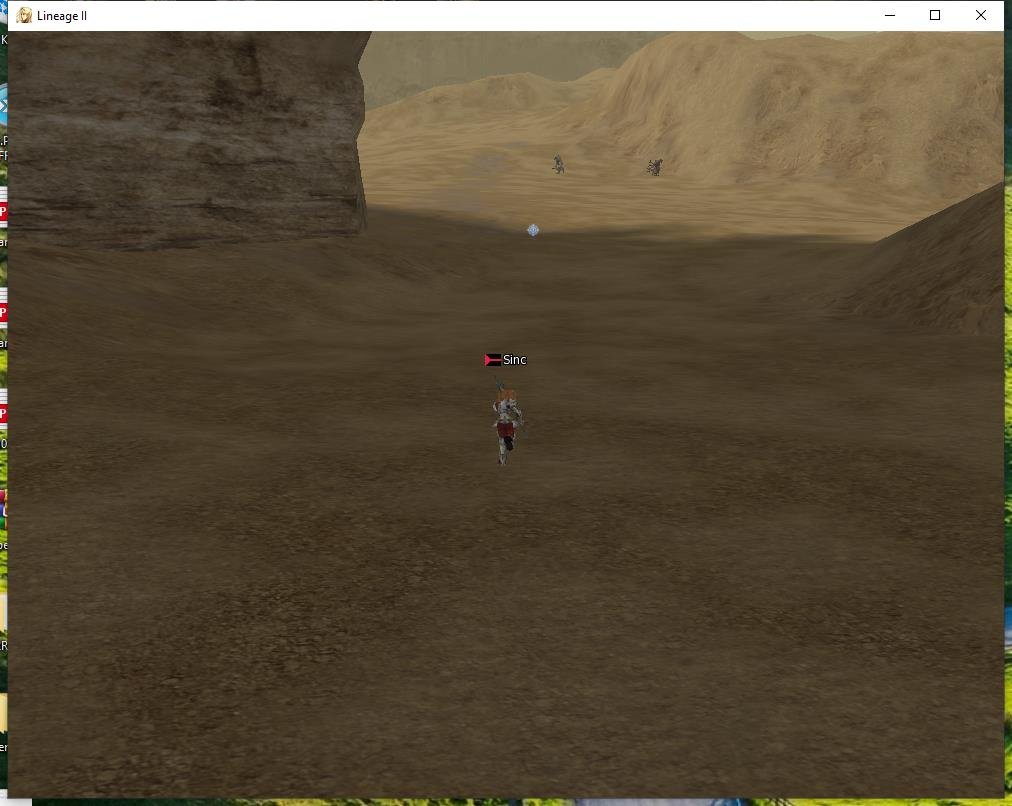monster: (649, 151, 667, 178), (552, 149, 569, 172)
